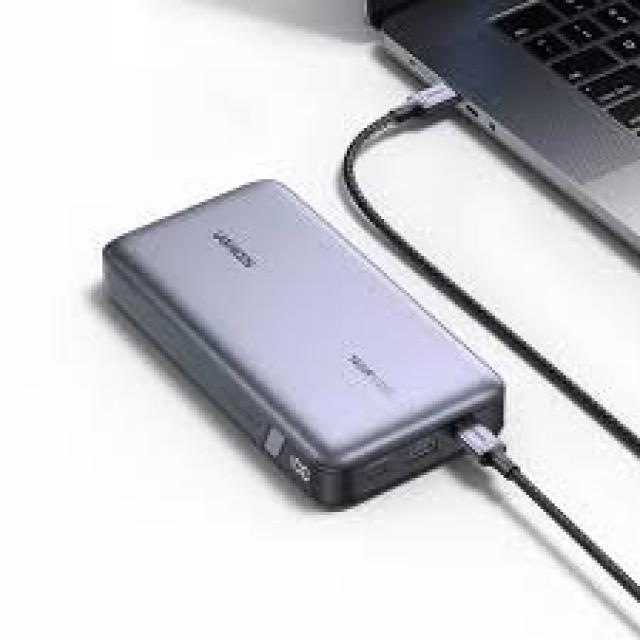power_bank: (94, 173, 512, 510)
